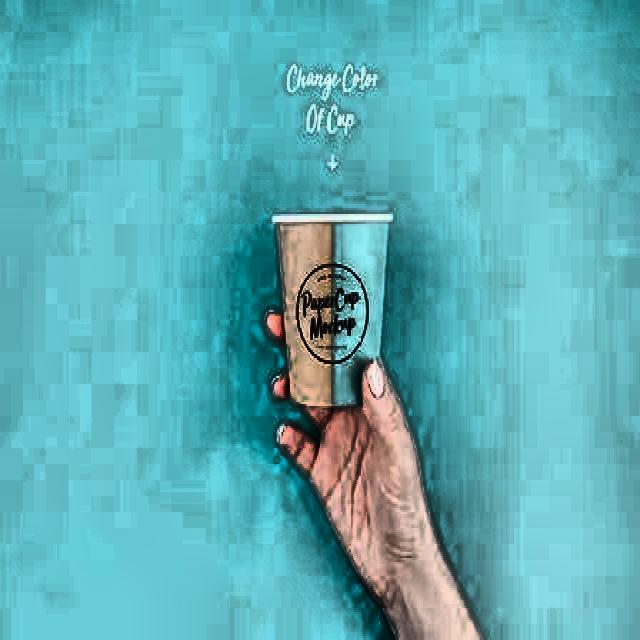Cup: (267, 194, 396, 432)
